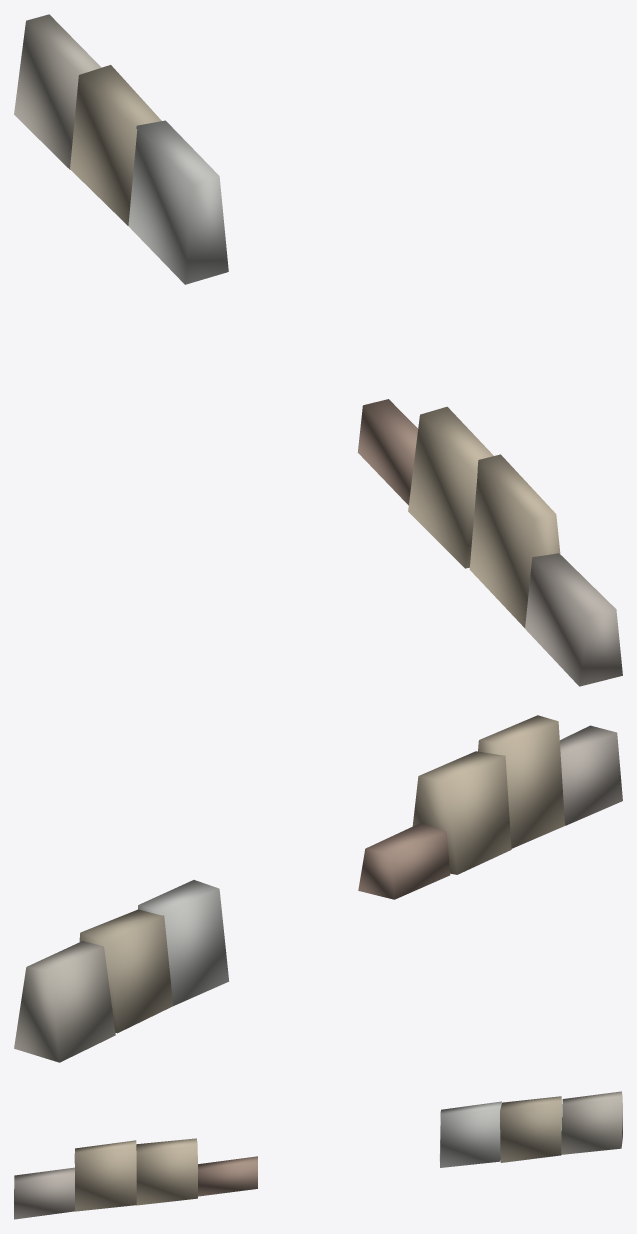
The model's file is farm_6_37_far.glb.
3 views of the same model, one above another, from view 1: azimuth 30°, elevation 25°; view 2: azimuth 150°, elevation 25°; view 3: azimuth 270°, elevation 25° (orthographic). The views are drawn at different scales.
Parts seen in each view (by area): view 1: geometry_0; view 2: geometry_0; view 3: geometry_0.
Part boxes in pixels (<box>): geometry_0: <box>14,14,622,686</box>; geometry_0: <box>14,715,622,1062</box>; geometry_0: <box>14,1091,622,1219</box>.
Bounding box in the file's own units: 0.9106 × 3.3 × 14.64.
